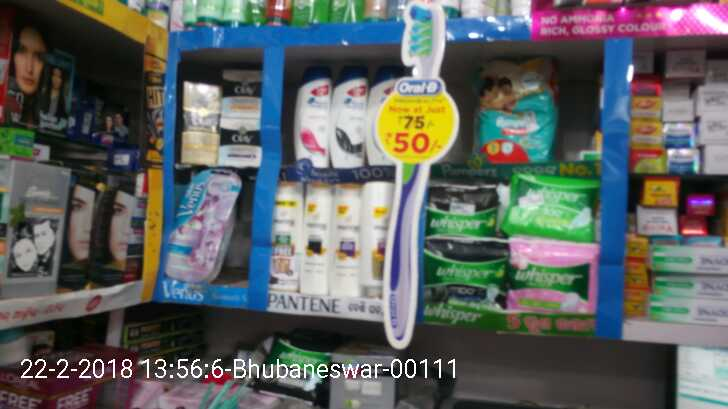venus: (167, 168, 243, 280)
